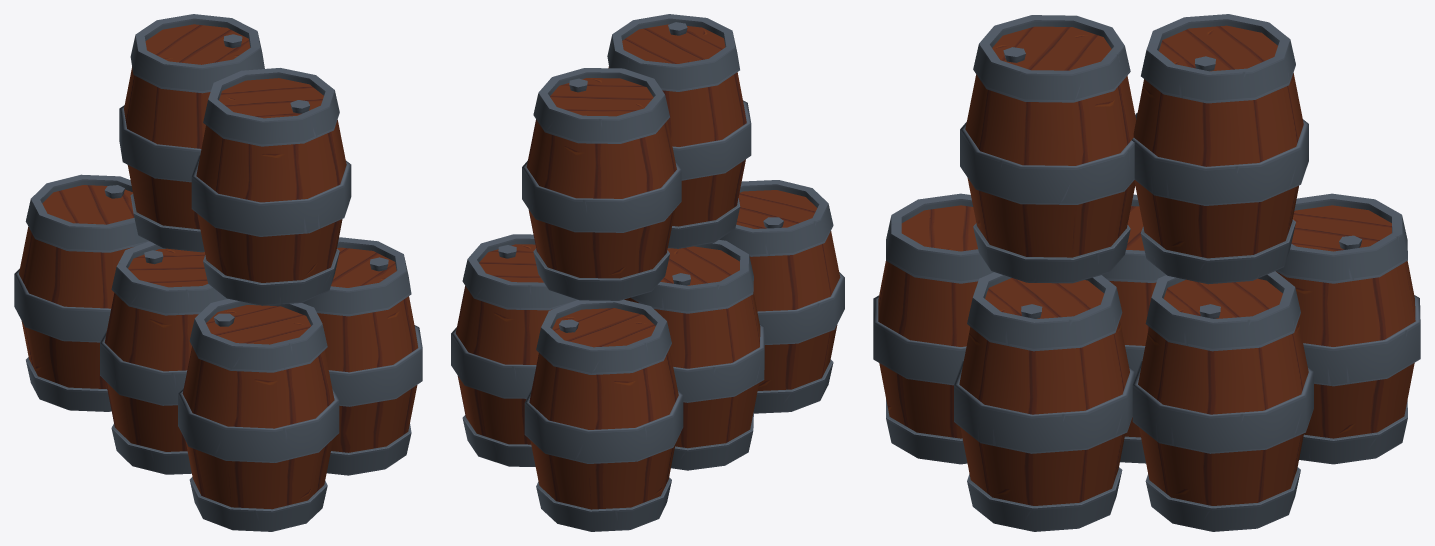
File: BarrelCluster2.fbx
The picture shows the model from 3 angles, left to right: view 1: azimuth 30°, elevation 25°; view 2: azimuth 150°, elevation 25°; view 3: azimuth 270°, elevation 25°; orthographic projection. The views are drawn at different scales.
Visible parts, largest first — view 1: BarrelCluster2; view 2: BarrelCluster2; view 3: BarrelCluster2.
Boxes of the visible parts, x1=… form: BarrelCluster2: x1=14, y1=14, x2=422, y2=531; BarrelCluster2: x1=451, y1=14, x2=844, y2=531; BarrelCluster2: x1=873, y1=14, x2=1420, y2=531.
Bounding box in the file's own units: 220 × 296 × 350.
